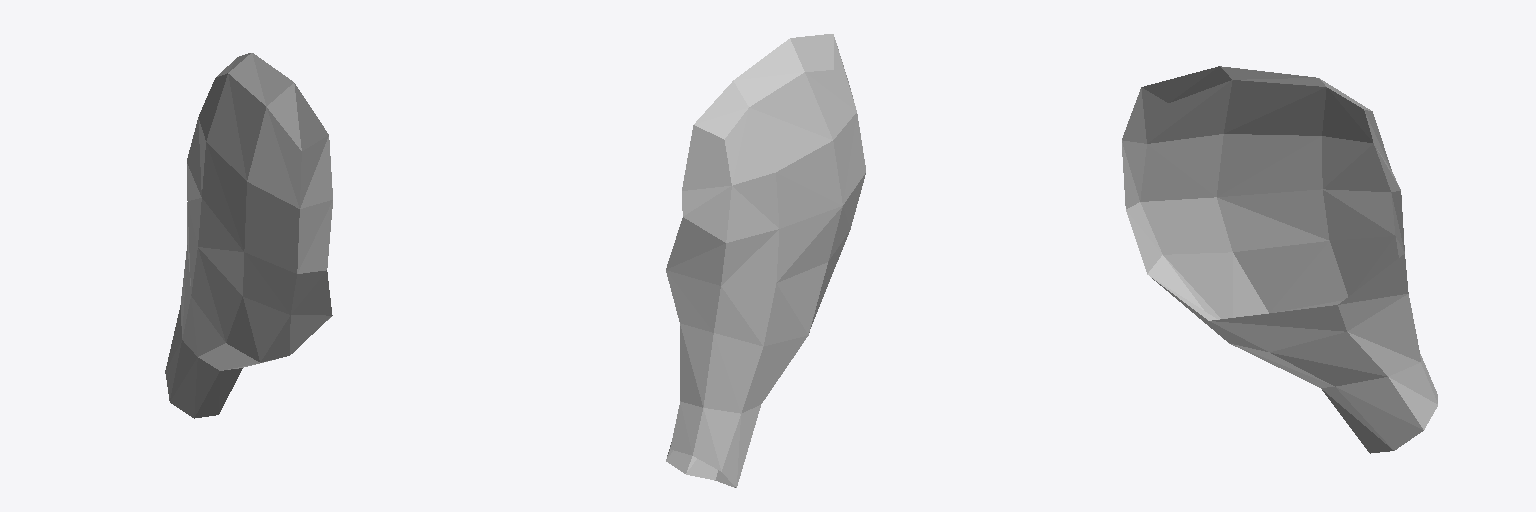
The model's file is 08A_back_right.obj.
3 views of the same model, side by side, from view 1: azimuth 30°, elevation 25°; view 2: azimuth 150°, elevation 25°; view 3: azimuth 270°, elevation 25° (orthographic).
Visible parts, largest first — view 1: polySurface14 WolfMesh; view 2: polySurface14 WolfMesh; view 3: polySurface14 WolfMesh.
Boxes of the visible parts, x1=… form: polySurface14 WolfMesh: x1=165, y1=53, x2=332, y2=418; polySurface14 WolfMesh: x1=666, y1=34, x2=865, y2=487; polySurface14 WolfMesh: x1=1122, y1=66, x2=1437, y2=453.
Size of the model in its own units: 0.3407 by 1.46 by 1.08.